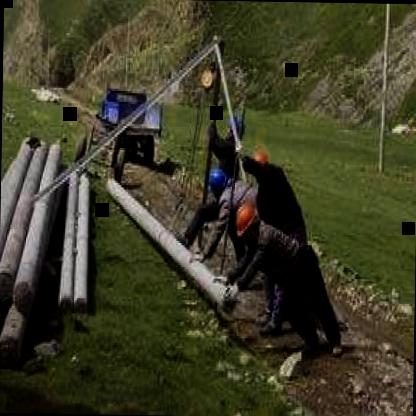helmet: (234, 200, 258, 248), (207, 166, 230, 195)
